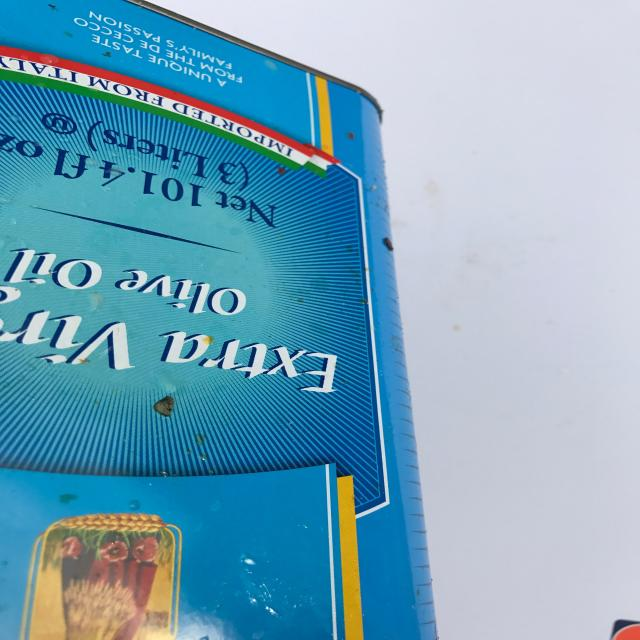Metal: (0, 2, 416, 640)
